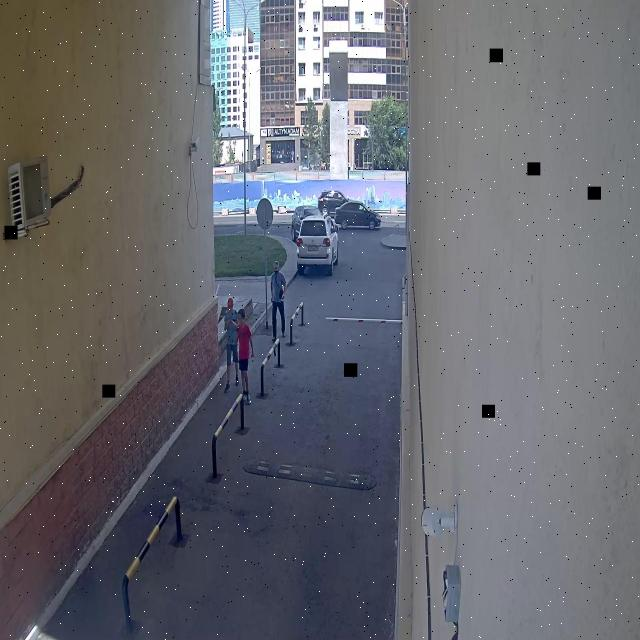handbag: (279, 288, 285, 300)
